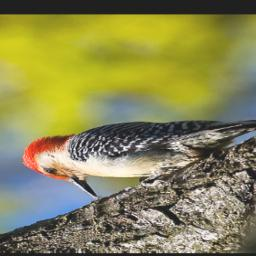Woodpecker: (22, 119, 256, 202)
